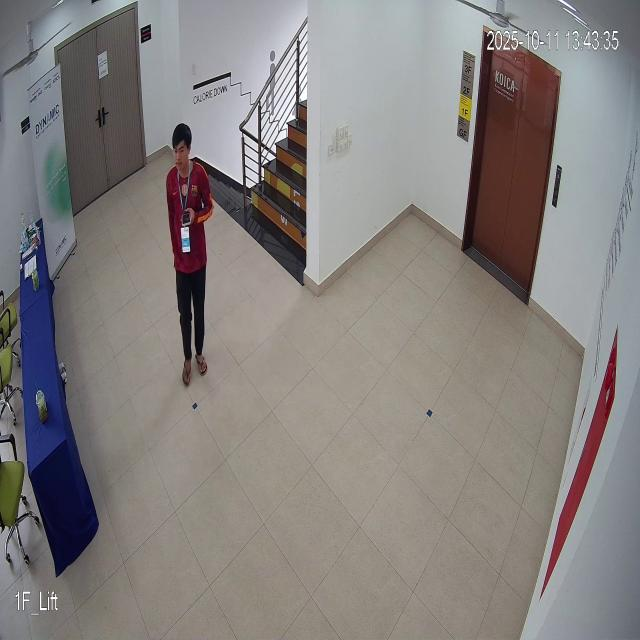face: (165, 119, 199, 187)
